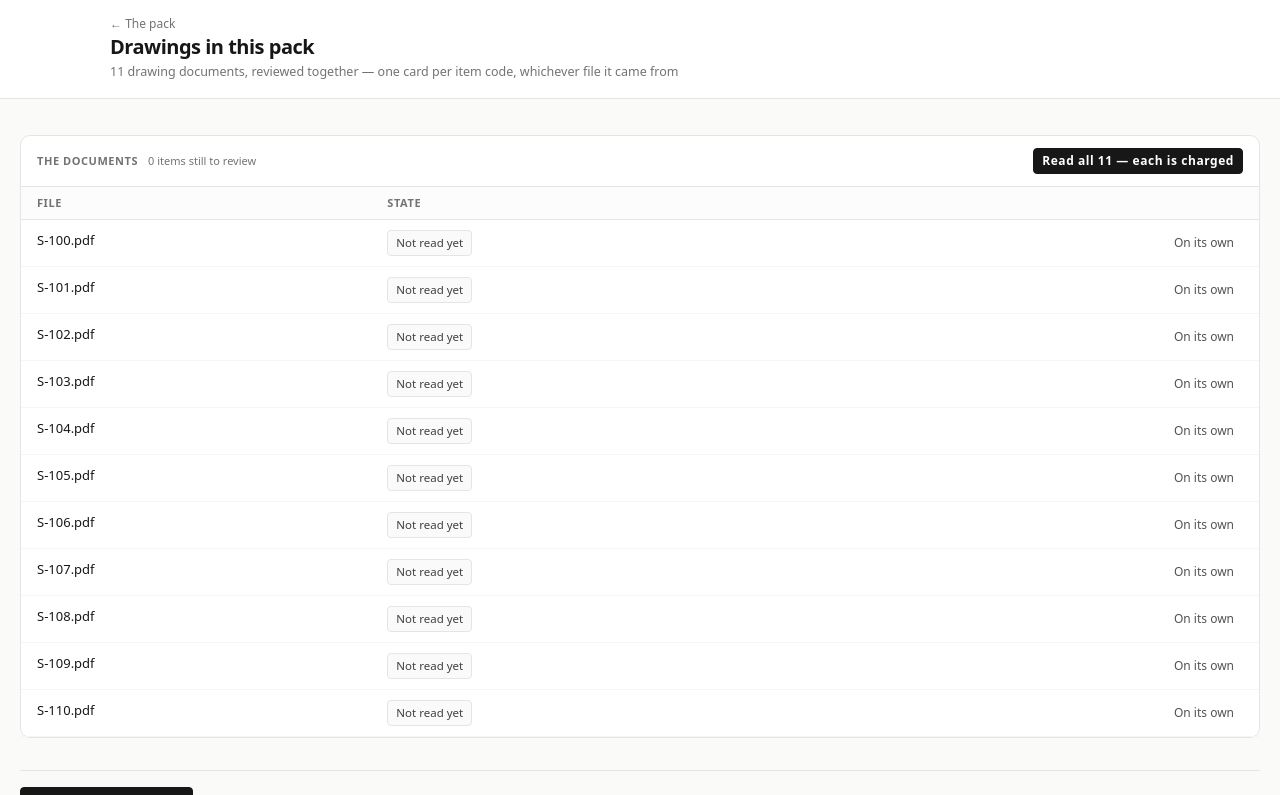
Test: the drawings step and the read cap › reports the split in words rather than eleven starts
Click the button "Read all 11 — each is charged" at (1138, 161), box left=1033, top=148, right=1243, bottom=174
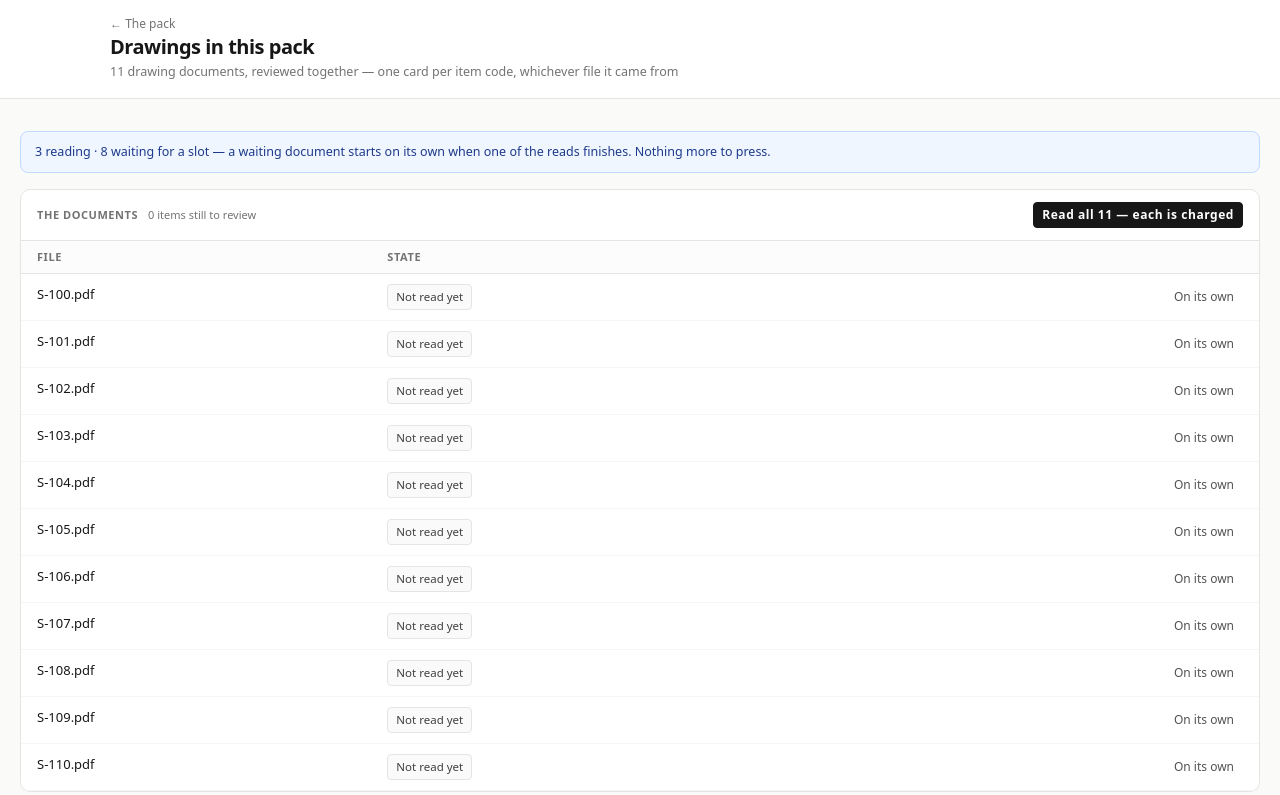
Expected: the text "Nothing more to press" is shown, left=35, top=143, right=771, bottom=160
